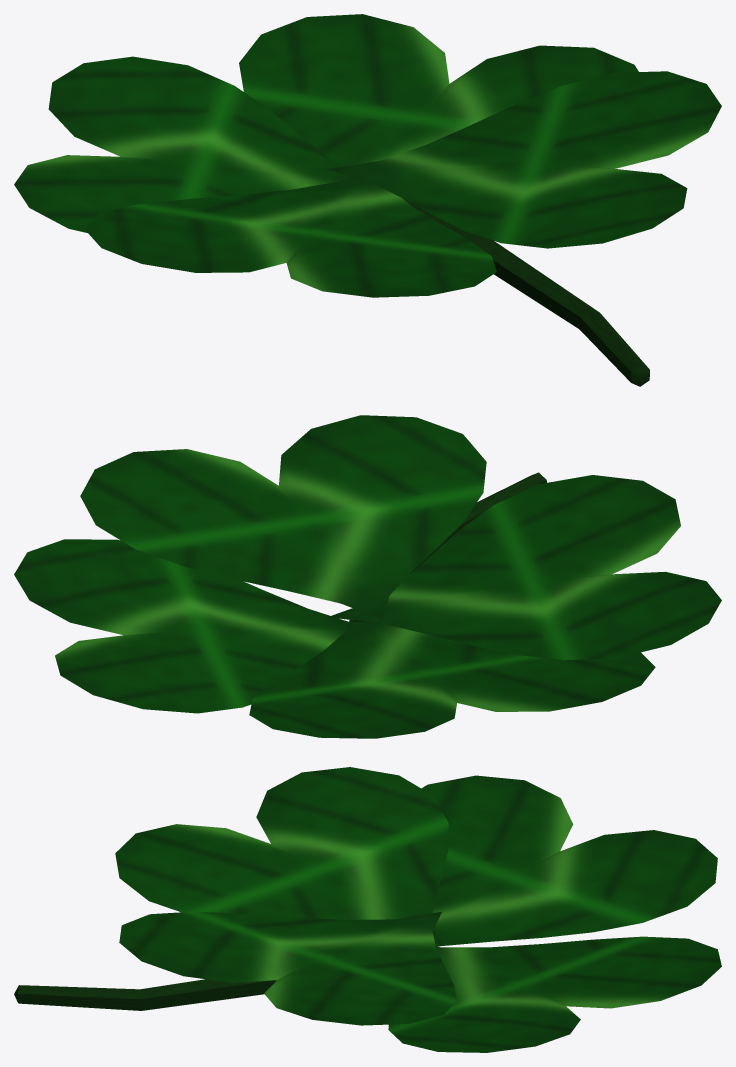
File: item_clover.glb
3 views of the same model, one above another, from view 1: azimuth 30°, elevation 25°; view 2: azimuth 150°, elevation 25°; view 3: azimuth 270°, elevation 25° (orthographic). The views are drawn at different scales.
Visible parts, largest first — view 1: clover; view 2: clover; view 3: clover.
Part boxes in pixels (x1=…): clover: x1=14, y1=14, x2=721, y2=386; clover: x1=14, y1=415, x2=721, y2=738; clover: x1=14, y1=767, x2=721, y2=1052.
Bounding box in the file's own units: 0.7328 × 0.1159 × 0.8153.
Materials: 1 (1 with a texture image).
